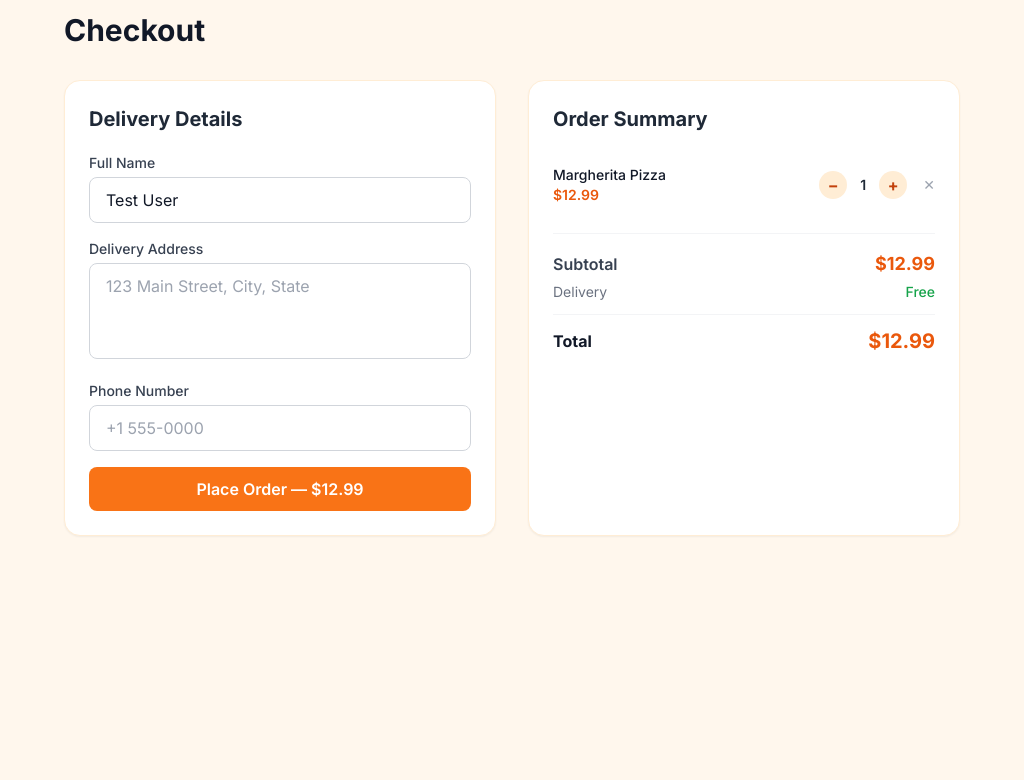
Test: CheckoutPage › shows validation error when name is empty on submit
Note: Clear the pre-filled name
Clear the field with test id "input-name" at [280, 200], box [89, 177, 471, 223]
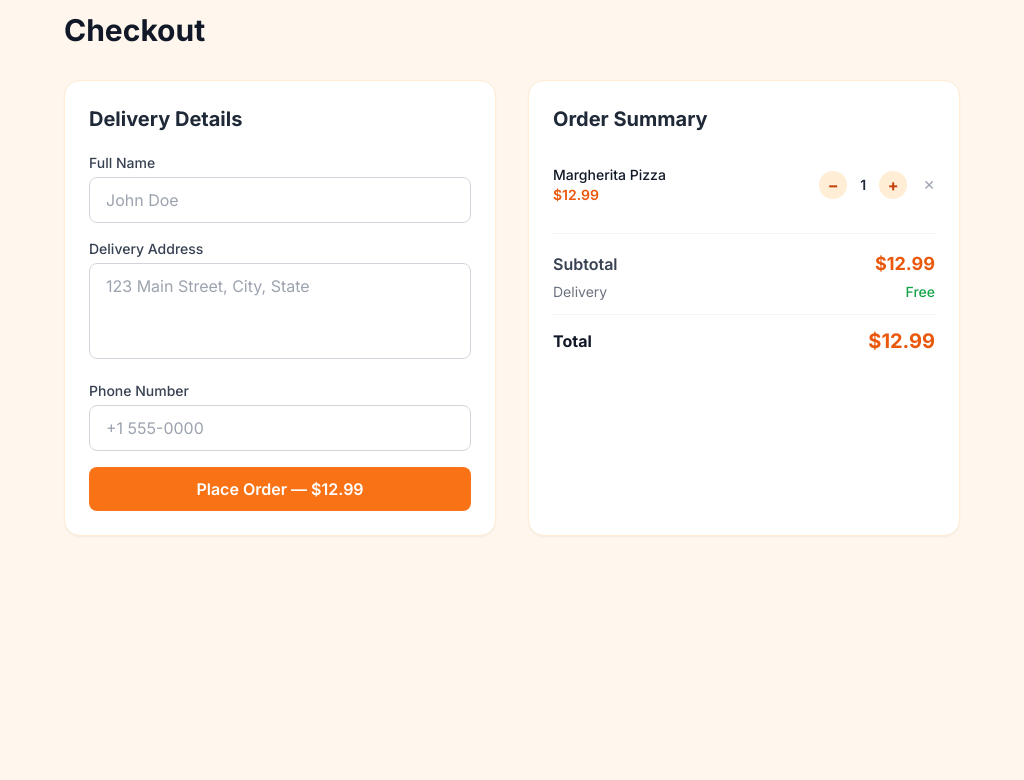
Click the button with test id "submit-order" at [280, 489], box [89, 467, 471, 511]
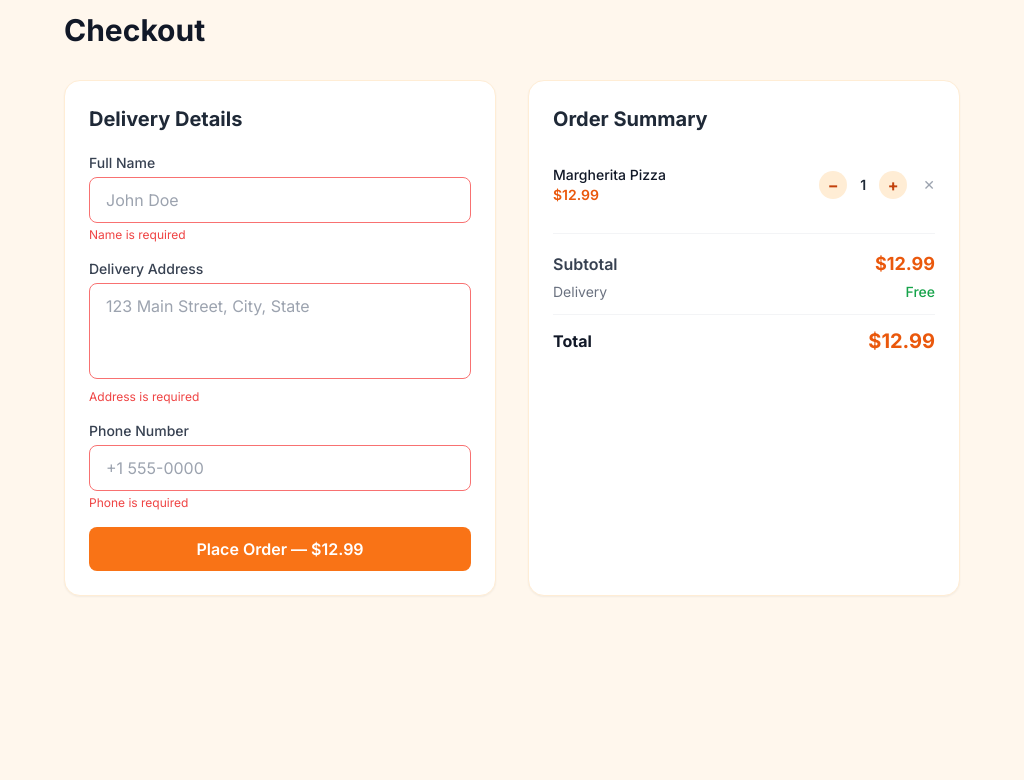
Expected: the text with test id "error-name" reads "Name is required", [89, 227, 186, 242]
